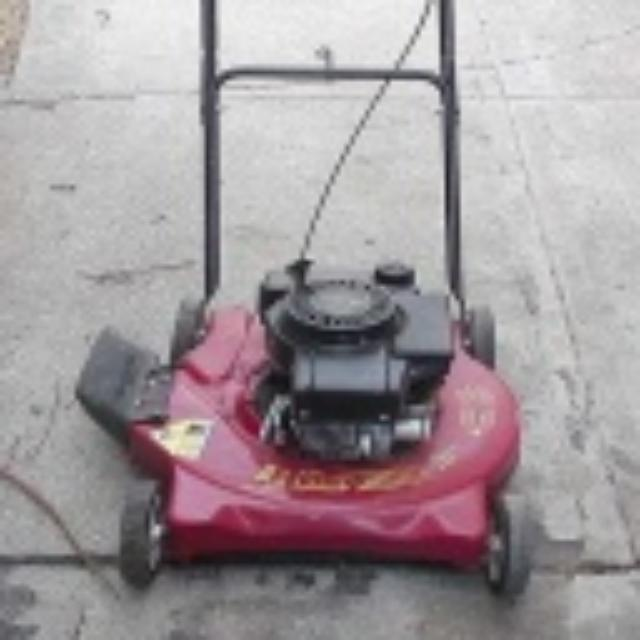Rotary-Mower: (70, 1, 530, 596)
